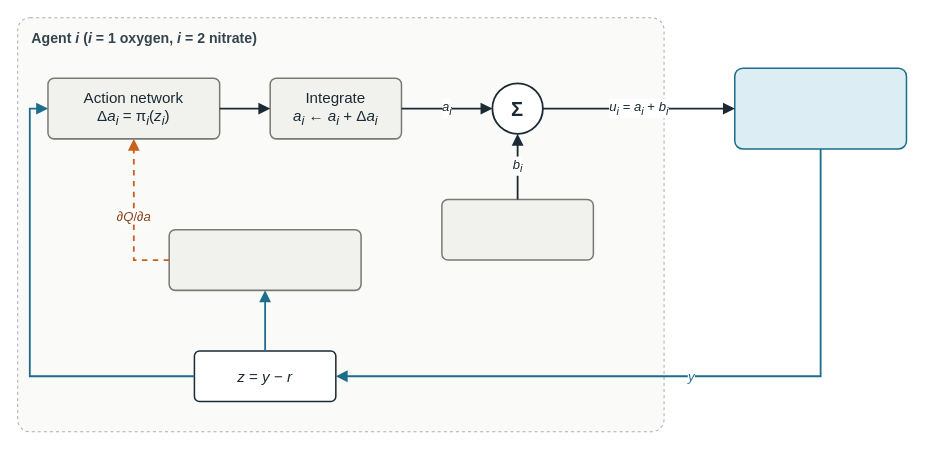
This 925x449 diagram has some shape labels left out. The box of each missing label's shape, as (x1, y1, x2, y2) in pixels:
BSM1: (734, 67, 907, 149)
Critic Q i ( z , a 1 , a 2 ) one-step TD update: (168, 229, 361, 291)
Expert PID b i ( z i ): (441, 198, 594, 260)
